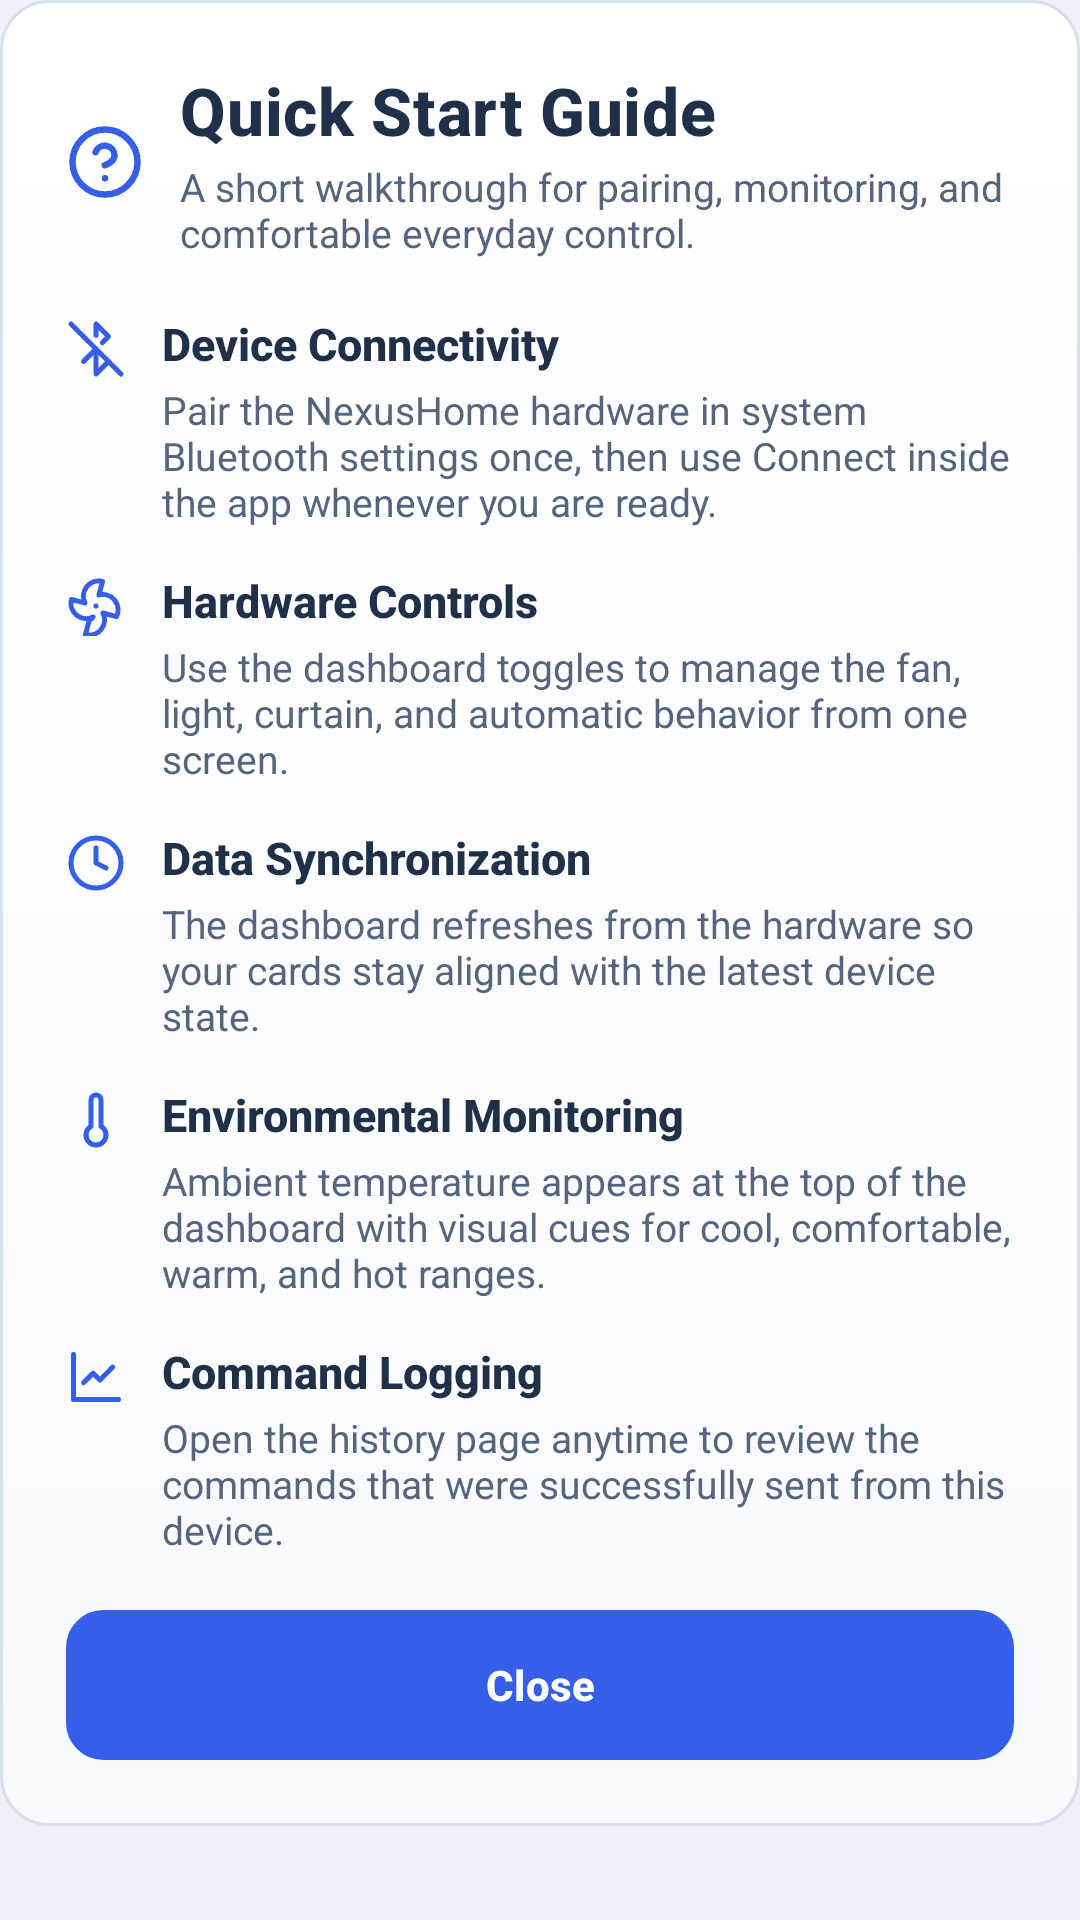

Locate icon controls on the screen. Image size 1080 × 1920, boxes as [x1=x1, y1=y1, x2=x2, y2=y2].
lucide clock: [x1=68, y1=835, x2=124, y2=891]
lucide fan: [x1=68, y1=578, x2=121, y2=636]
lucide help: [x1=69, y1=126, x2=141, y2=198]
lucide thermometer: [x1=83, y1=1092, x2=109, y2=1148]
